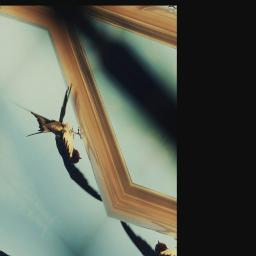Swallow: (2, 56, 139, 214)
